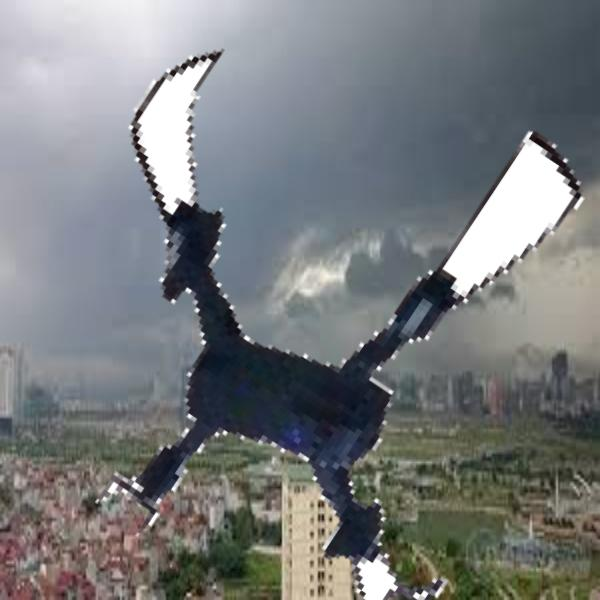drone: (16, 21, 595, 600)
